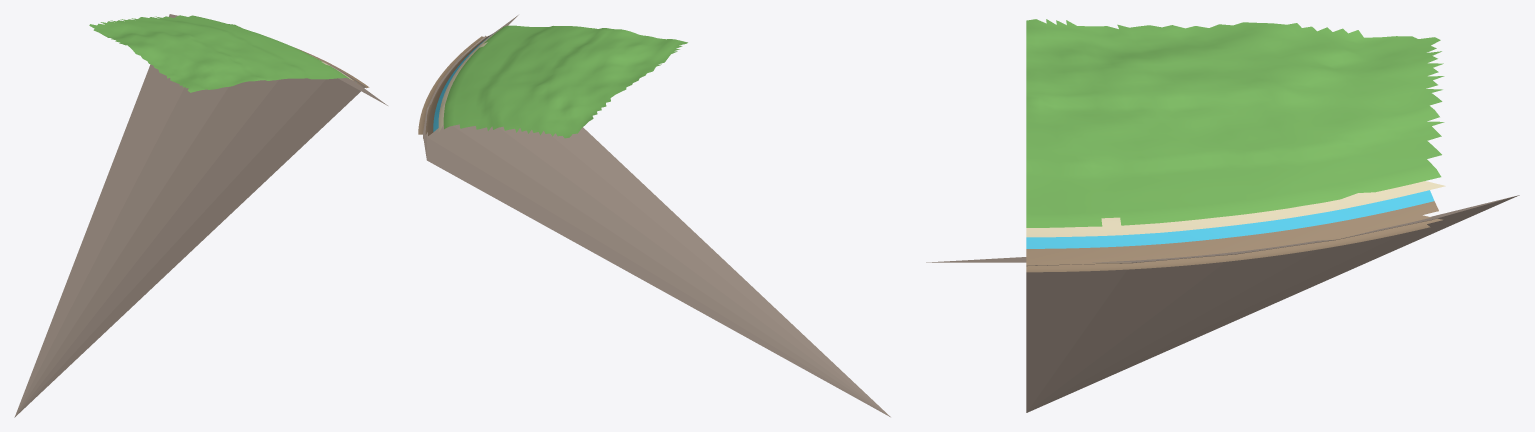
Rendered from flagship_terrain_13.glb.
The picture shows the model from 3 angles, left to right: view 1: azimuth 30°, elevation 25°; view 2: azimuth 150°, elevation 25°; view 3: azimuth 270°, elevation 25°; orthographic projection. The views are drawn at different scales.
Parts seen in each view (by area): view 1: Terrain_13; view 2: Terrain_13; view 3: Terrain_13.
Part boxes in pixels (x1,y1,x2,y2): Terrain_13: [14, 14, 387, 417]; Terrain_13: [418, 15, 890, 417]; Terrain_13: [926, 19, 1519, 412].
Bounding box in the file's own units: 121 × 92.25 × 88.71.
